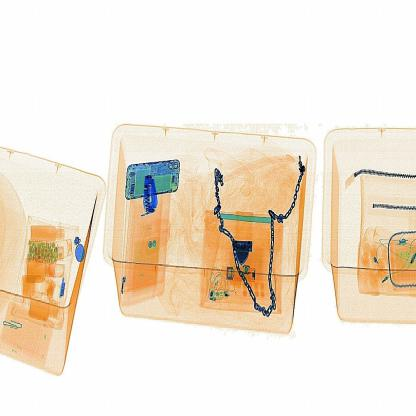scissors: (137, 167, 168, 222)
